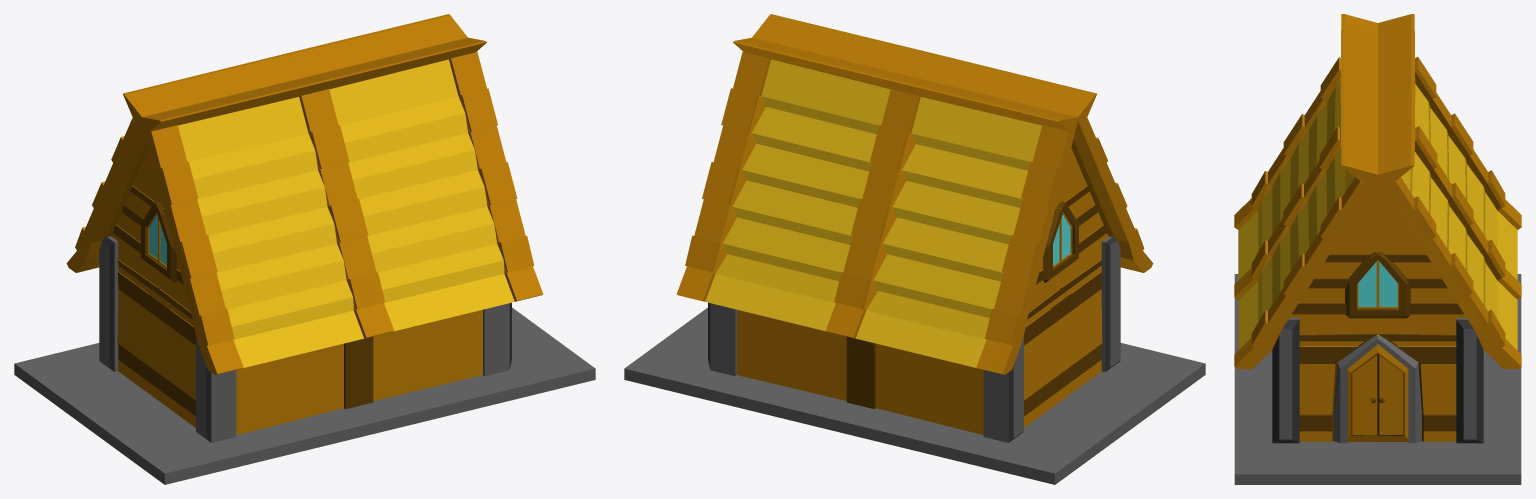
Rendered from Main_second_level (1).fbx.
3 views of the same model, side by side, from view 1: azimuth 30°, elevation 25°; view 2: azimuth 150°, elevation 25°; view 3: azimuth 270°, elevation 25° (orthographic). The views are drawn at different scales.
Visible parts, largest first — view 1: Cube.001, Cube; view 2: Cube.001, Cube; view 3: Cube.001, Cube.
Boxes of the visible parts, x1,y1,x2,y2 form: Cube.001: [66, 14, 543, 442]; Cube: [14, 307, 595, 484]; Cube.001: [676, 14, 1153, 442]; Cube: [624, 307, 1205, 484]; Cube.001: [1234, 14, 1521, 443]; Cube: [1234, 274, 1521, 484].
Size of the model in its own units: 3092 by 2122 by 1875.
